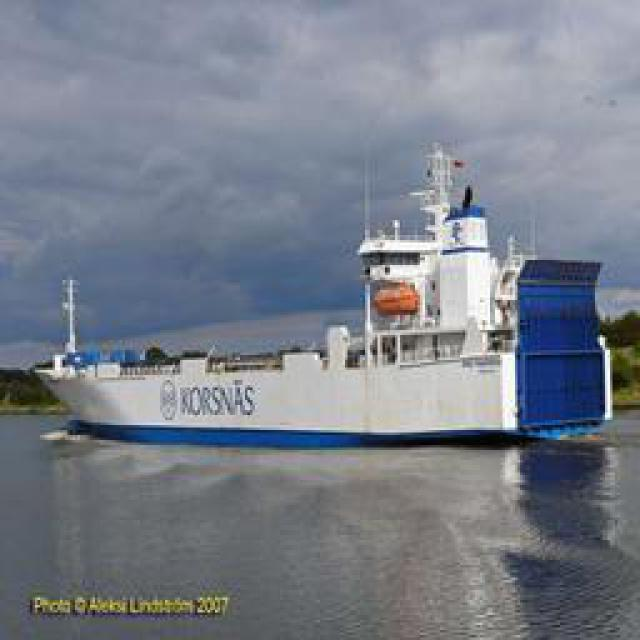Ship: (40, 124, 603, 444)
